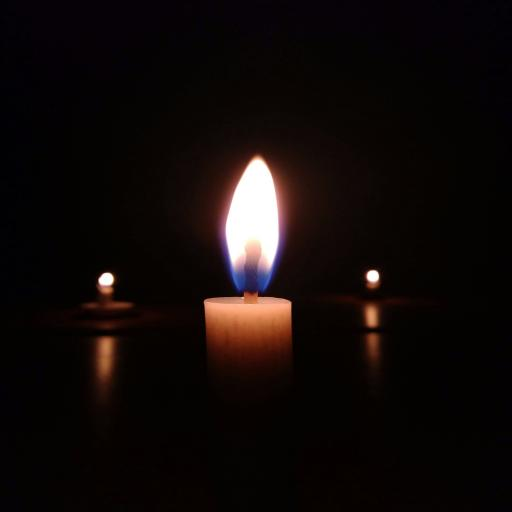candlelight: (204, 294, 293, 400), (222, 154, 282, 308), (352, 268, 387, 333), (96, 272, 116, 304), (363, 268, 382, 296)
